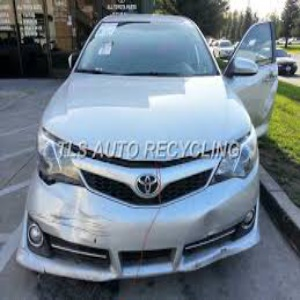bumper_scratch: (30, 198, 128, 247)
